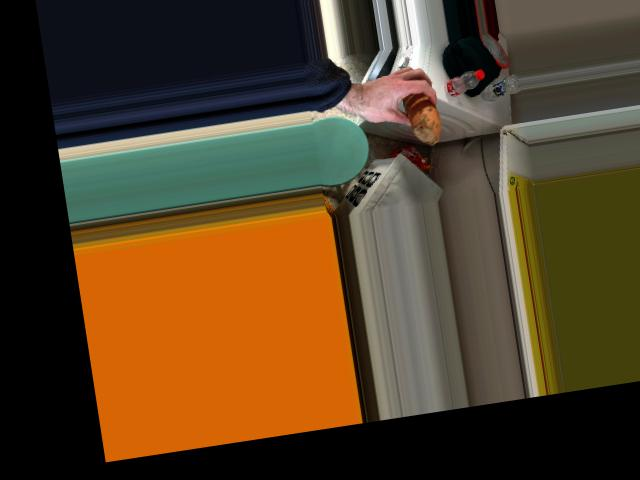sweet_potato: (393, 84, 444, 136)
